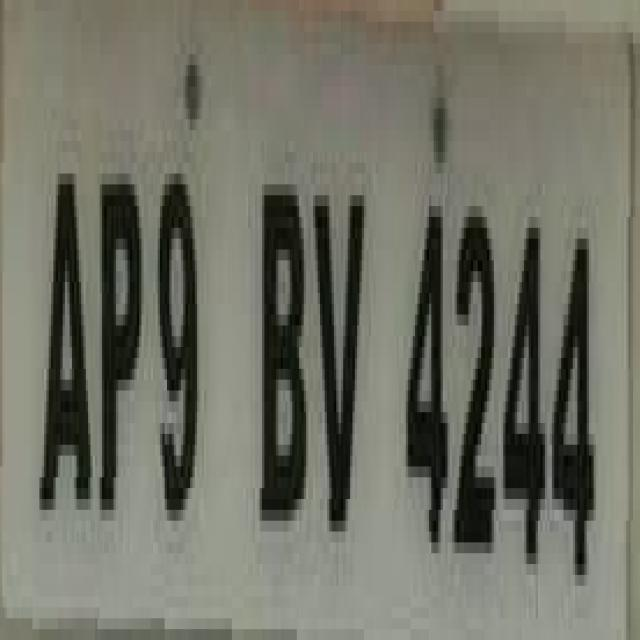license_plate: (0, 21, 612, 640)
